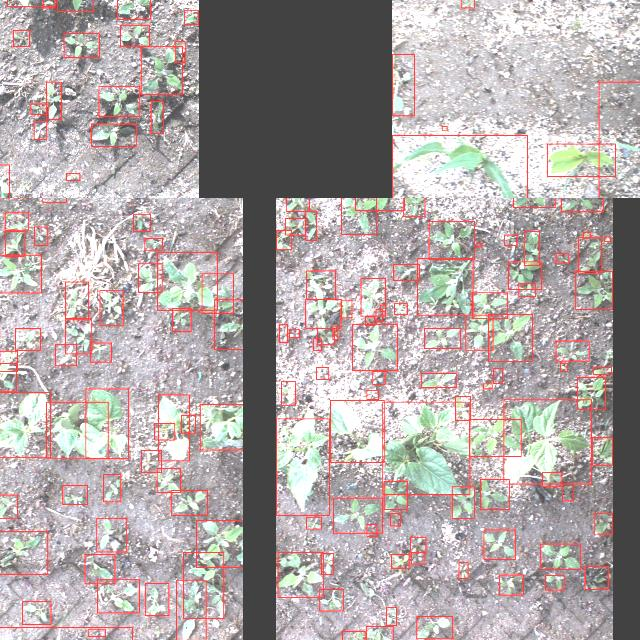crop: (391, 135, 527, 198), (382, 402, 470, 494), (503, 399, 591, 483), (276, 418, 328, 514), (45, 401, 107, 457), (329, 400, 383, 462), (0, 391, 49, 457), (417, 258, 473, 314), (84, 388, 128, 458), (546, 142, 616, 176), (488, 314, 532, 361), (352, 324, 396, 371), (199, 403, 243, 449), (158, 394, 188, 460), (469, 418, 521, 456), (278, 552, 322, 596), (428, 220, 474, 258), (332, 498, 382, 532), (576, 271, 612, 309), (340, 198, 375, 233), (304, 298, 340, 328), (576, 377, 606, 409), (540, 544, 580, 568), (507, 261, 541, 289), (471, 292, 507, 318), (466, 314, 492, 350), (360, 277, 384, 315), (484, 529, 514, 559), (479, 479, 508, 509), (578, 238, 602, 272), (416, 616, 452, 638), (306, 270, 334, 298), (424, 328, 460, 348), (452, 486, 474, 518), (384, 480, 406, 510), (556, 340, 588, 360), (592, 437, 612, 465), (561, 198, 603, 211), (354, 198, 403, 209), (420, 373, 456, 387), (524, 231, 538, 265), (365, 625, 392, 640), (513, 198, 555, 207), (402, 198, 424, 215), (594, 513, 612, 533), (304, 210, 316, 240), (544, 574, 564, 590), (285, 198, 308, 211), (276, 230, 290, 248), (341, 630, 364, 640), (593, 366, 611, 374)
weed: (157, 251, 217, 309), (183, 552, 223, 618), (195, 519, 243, 566), (0, 530, 47, 573), (140, 46, 182, 94), (176, 579, 206, 639), (0, 254, 40, 292), (213, 299, 243, 349), (97, 580, 139, 612), (391, 54, 413, 114), (201, 273, 233, 313), (99, 86, 140, 116), (90, 122, 136, 146), (96, 517, 126, 551), (65, 317, 91, 353), (170, 490, 208, 514), (64, 281, 88, 319), (84, 553, 114, 583), (64, 33, 98, 57), (144, 583, 168, 615), (100, 290, 122, 324), (137, 262, 161, 292), (22, 600, 50, 624), (120, 24, 150, 46), (117, 0, 151, 18), (156, 468, 180, 492), (15, 328, 40, 350), (46, 81, 60, 119), (319, 588, 343, 610), (584, 566, 608, 588), (102, 473, 120, 501), (4, 230, 23, 256), (54, 343, 76, 365), (62, 484, 86, 504), (499, 574, 523, 594), (141, 450, 161, 472), (4, 212, 28, 230), (0, 363, 15, 391), (150, 100, 163, 132), (393, 264, 419, 280), (90, 342, 110, 362), (57, 0, 93, 11), (172, 308, 190, 330), (454, 396, 470, 420), (280, 381, 296, 405), (0, 494, 16, 517), (154, 422, 174, 440), (0, 350, 17, 371), (284, 218, 304, 235), (132, 213, 150, 230), (12, 30, 30, 46), (316, 328, 334, 344), (542, 472, 562, 486), (0, 164, 8, 198), (320, 552, 332, 574), (33, 226, 47, 244), (181, 414, 195, 432), (390, 554, 408, 568), (518, 282, 536, 296), (410, 536, 424, 552), (34, 121, 46, 139), (30, 102, 48, 114), (144, 237, 162, 249), (175, 40, 185, 61), (184, 10, 198, 24), (341, 299, 351, 317), (386, 606, 396, 624), (562, 484, 572, 501), (306, 516, 320, 528), (458, 562, 468, 578), (411, 551, 424, 563), (372, 371, 384, 384), (394, 302, 406, 314), (278, 323, 286, 341), (316, 367, 328, 379), (492, 368, 502, 382), (504, 233, 516, 244), (88, 628, 104, 636), (556, 253, 568, 263), (389, 513, 399, 525), (366, 524, 376, 536), (366, 389, 378, 399), (66, 172, 80, 180), (374, 309, 382, 321), (312, 338, 320, 350), (460, 0, 473, 7), (42, 0, 54, 7), (364, 316, 374, 324), (288, 329, 298, 337), (560, 362, 568, 370), (332, 325, 336, 339), (583, 231, 591, 237), (482, 384, 492, 388), (604, 236, 610, 240), (476, 242, 482, 246), (380, 304, 384, 310), (442, 126, 446, 130)
